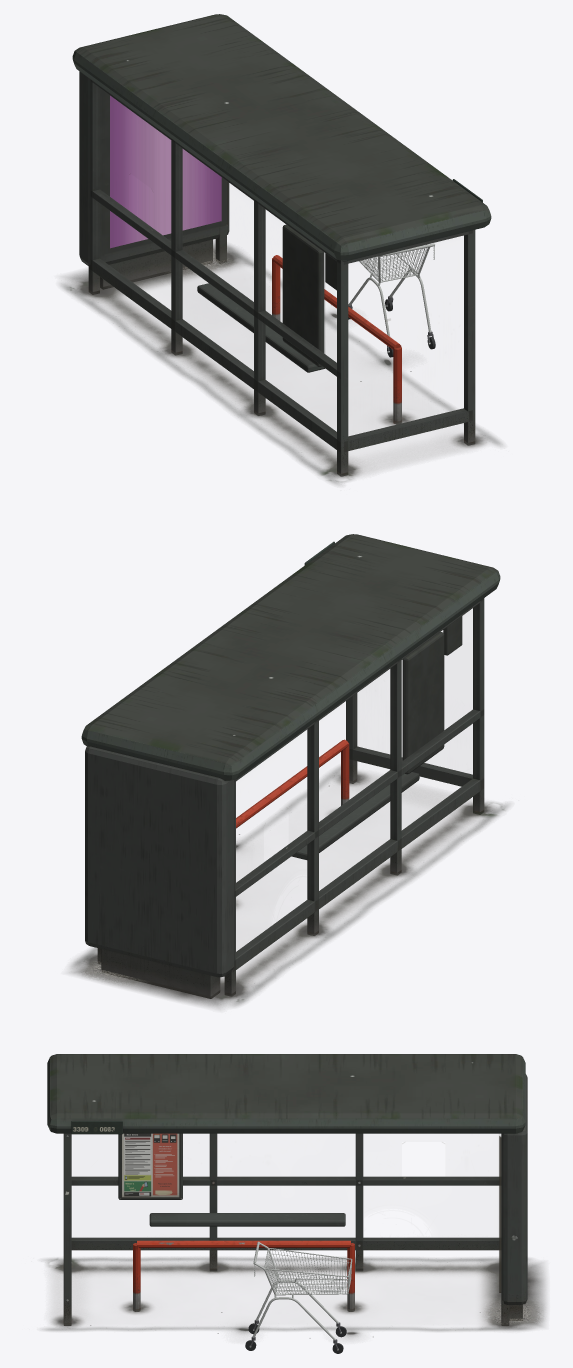
File: preston-busstop-textured.glb
3 renders of one model, top to bottom at view 1: azimuth 30°, elevation 25°; view 2: azimuth 150°, elevation 25°; view 3: azimuth 270°, elevation 25°, orthographic. The views are drawn at different scales.
Parts seen in each view (by area): view 1: BUSSTOP_Roof_Shell, BUSSTOP_Frame, BUSSTOP_GroundContact_Decal, BUSSTOP_Advert_DecalSurface, BUSSTOP_AdvertHousing_Outer, BUSSTOP_Timetable_Backplate, BUSSTOP_Frame_LeftFrontUpright, BUSSTOP_Frame_LeftBottomRail, BUSSTOP_AdvertHousing_Plinth, BUSSTOP_Bench_Perch, TROLLEY_Basket, BUSSTOP_BenchRail_Horizontal (+2 smaller); view 2: BUSSTOP_Roof_Shell, BUSSTOP_AdvertHousing_Outer, BUSSTOP_Frame, BUSSTOP_GroundContact_Decal, BUSSTOP_Timetable_Backplate, BUSSTOP_AdvertHousing_Plinth, BUSSTOP_Bench_Perch, BUSSTOP_Frame_LeftBottomRail, BUSSTOP_BenchRail_Horizontal, BUSSTOP_Frame_LeftFrontUpright; view 3: BUSSTOP_Roof_Shell, BUSSTOP_GroundContact_Decal, BUSSTOP_Frame, BUSSTOP_AdvertHousing_Outer, BUSSTOP_Timetable_DecalSurface, BUSSTOP_Bench_Perch, TROLLEY_Basket, BUSSTOP_Frame_LeftFrontUpright, BUSSTOP_BenchRail_Horizontal, BUSSTOP_Number_DecalSurface, BUSSTOP_Timetable_Backplate, BUSSTOP_Frame_RightFrontUpright (+3 smaller).
Part boxes in pixels (bbox=[...]): BUSSTOP_Roof_Shell: bbox=[72, 14, 491, 260]; BUSSTOP_Frame: bbox=[88, 80, 348, 476]; BUSSTOP_GroundContact_Decal: bbox=[61, 240, 502, 484]; BUSSTOP_Advert_DecalSurface: bbox=[110, 95, 221, 248]; BUSSTOP_AdvertHousing_Outer: bbox=[79, 71, 229, 265]; BUSSTOP_Timetable_Backplate: bbox=[282, 224, 324, 366]; BUSSTOP_Frame_LeftFrontUpright: bbox=[464, 230, 475, 445]; BUSSTOP_Frame_LeftBottomRail: bbox=[344, 408, 472, 452]; BUSSTOP_AdvertHousing_Plinth: bbox=[100, 239, 212, 288]; BUSSTOP_Bench_Perch: bbox=[197, 283, 325, 372]; TROLLEY_Basket: bbox=[360, 248, 426, 282]; BUSSTOP_BenchRail_Horizontal: bbox=[272, 255, 401, 349]; BUSSTOP_Roof_Shell: bbox=[81, 534, 500, 780]; BUSSTOP_AdvertHousing_Outer: bbox=[85, 746, 234, 977]; BUSSTOP_Frame: bbox=[224, 598, 484, 995]; BUSSTOP_GroundContact_Decal: bbox=[69, 766, 508, 1008]; BUSSTOP_Timetable_Backplate: bbox=[402, 632, 444, 774]; BUSSTOP_AdvertHousing_Plinth: bbox=[101, 949, 220, 998]; BUSSTOP_Bench_Perch: bbox=[291, 772, 419, 859]; BUSSTOP_Frame_LeftBottomRail: bbox=[349, 746, 472, 786]; BUSSTOP_BenchRail_Horizontal: bbox=[236, 739, 348, 828]; BUSSTOP_Frame_LeftFrontUpright: bbox=[346, 693, 357, 783]; BUSSTOP_Roof_Shell: bbox=[47, 1054, 525, 1133]; BUSSTOP_GroundContact_Decal: bbox=[44, 1257, 545, 1338]; BUSSTOP_Frame: bbox=[71, 1133, 499, 1270]; BUSSTOP_AdvertHousing_Outer: bbox=[502, 1074, 527, 1304]; BUSSTOP_Timetable_DecalSurface: bbox=[122, 1133, 179, 1197]; BUSSTOP_Bench_Perch: bbox=[149, 1213, 345, 1226]; TROLLEY_Basket: bbox=[264, 1248, 352, 1294]; BUSSTOP_Frame_LeftFrontUpright: bbox=[63, 1133, 71, 1325]; BUSSTOP_BenchRail_Horizontal: bbox=[137, 1240, 350, 1247]; BUSSTOP_Number_DecalSurface: bbox=[71, 1121, 122, 1134]; BUSSTOP_Timetable_Backplate: bbox=[118, 1133, 182, 1199]; BUSSTOP_Frame_RightFrontUpright: bbox=[501, 1133, 509, 1325].
Size of the model in its own units: 2.78 by 2.55 by 5.9.
Materials: 11 (8 with a texture image).
